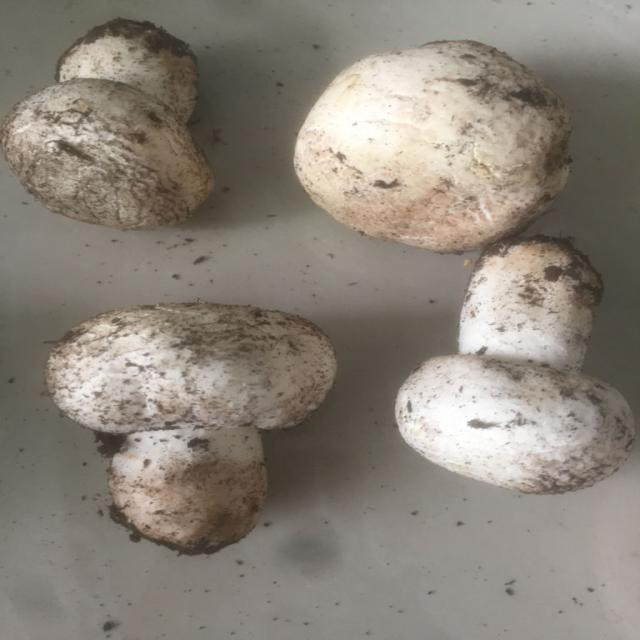Agaricus bisporus: (50, 306, 338, 554), (294, 38, 576, 253), (401, 238, 634, 496), (9, 19, 222, 226)
